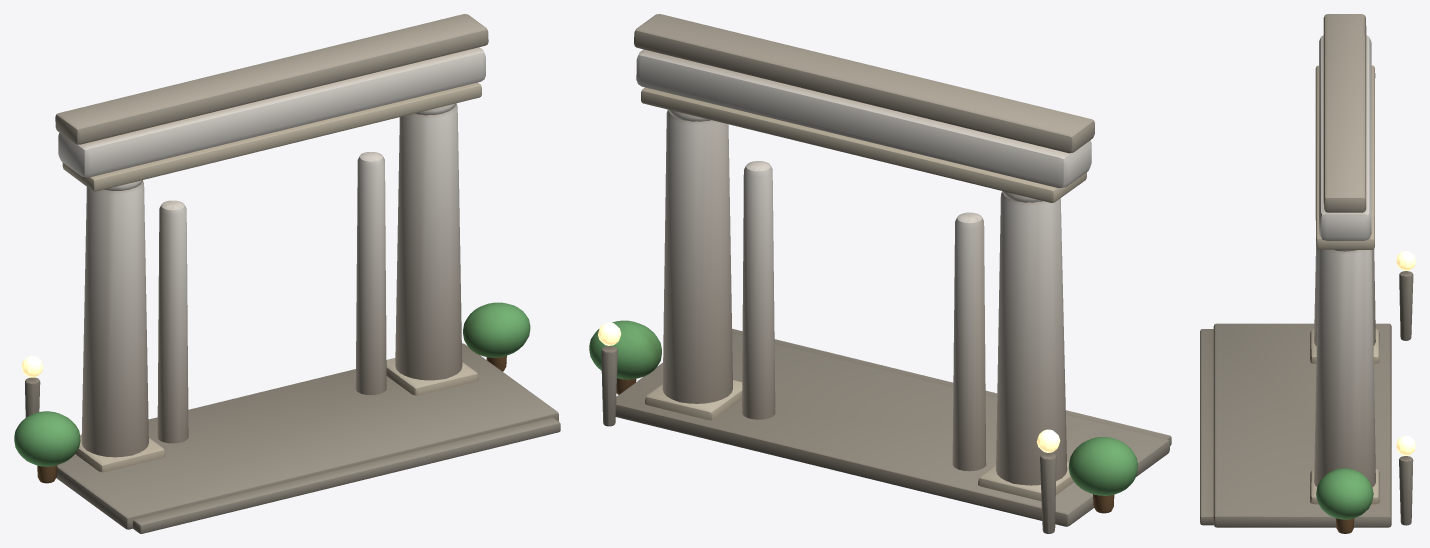
3 renders of one model, left to right at view 1: azimuth 30°, elevation 25°; view 2: azimuth 150°, elevation 25°; view 3: azimuth 270°, elevation 25°, orthographic. The views are drawn at different scales.
Visible parts, largest first — view 1: gate_a02ab0b0; view 2: gate_a02ab0b0; view 3: gate_a02ab0b0.
Boxes of the visible parts, x1,y1,x2,y2 form: gate_a02ab0b0: (14, 14, 560, 533); gate_a02ab0b0: (589, 14, 1171, 533); gate_a02ab0b0: (1200, 14, 1415, 533).
Bounding box in the file's own units: 6.36 × 4.26 × 2.54.
